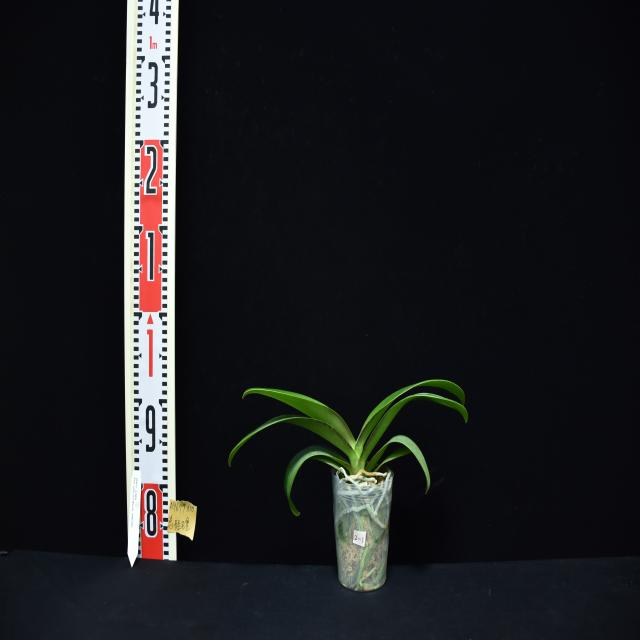leaf: (355, 380, 465, 459), (359, 394, 468, 465), (242, 388, 357, 453), (229, 416, 359, 469), (285, 446, 353, 515), (364, 435, 430, 493), (380, 449, 411, 466)
